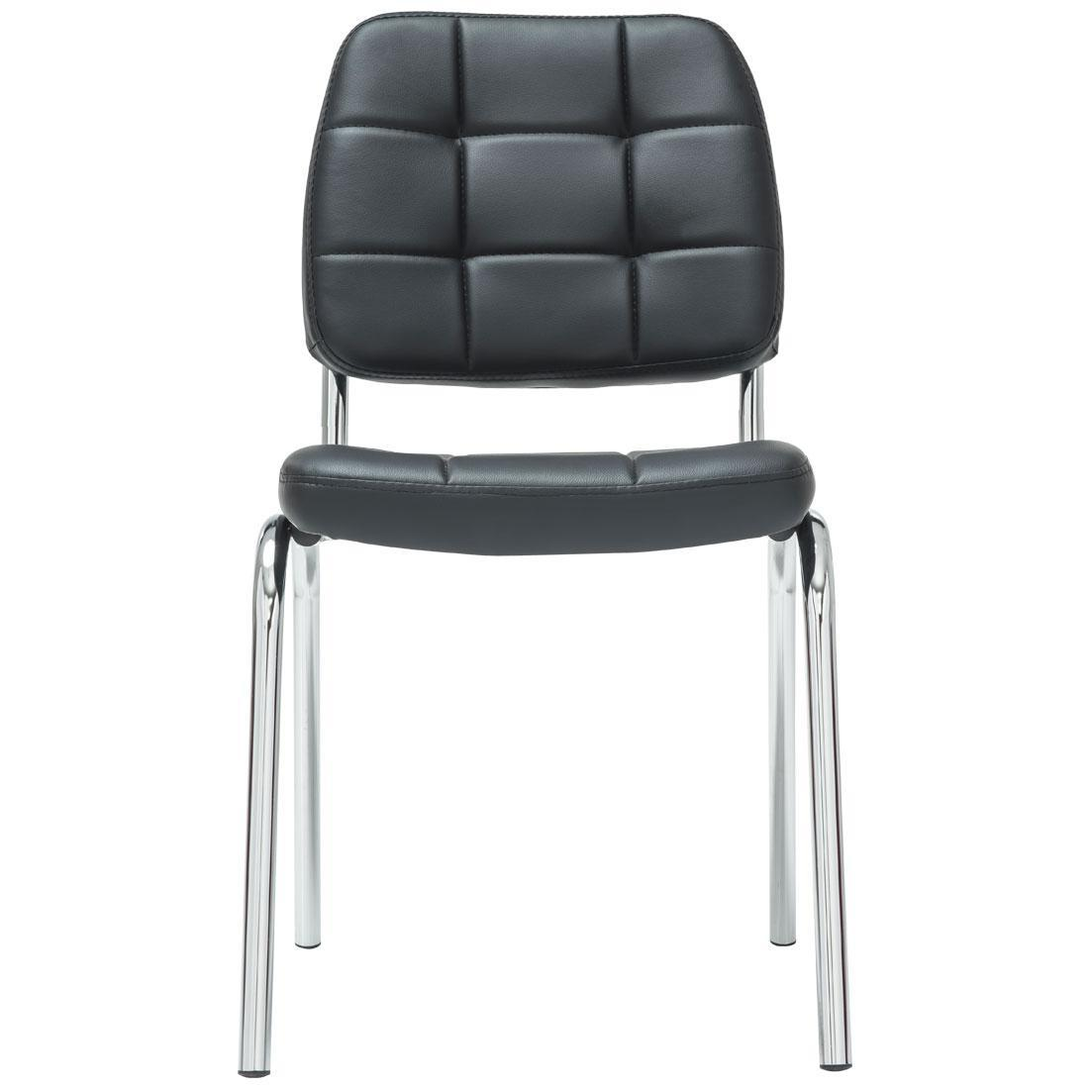chair: (219, 0, 906, 1089)
